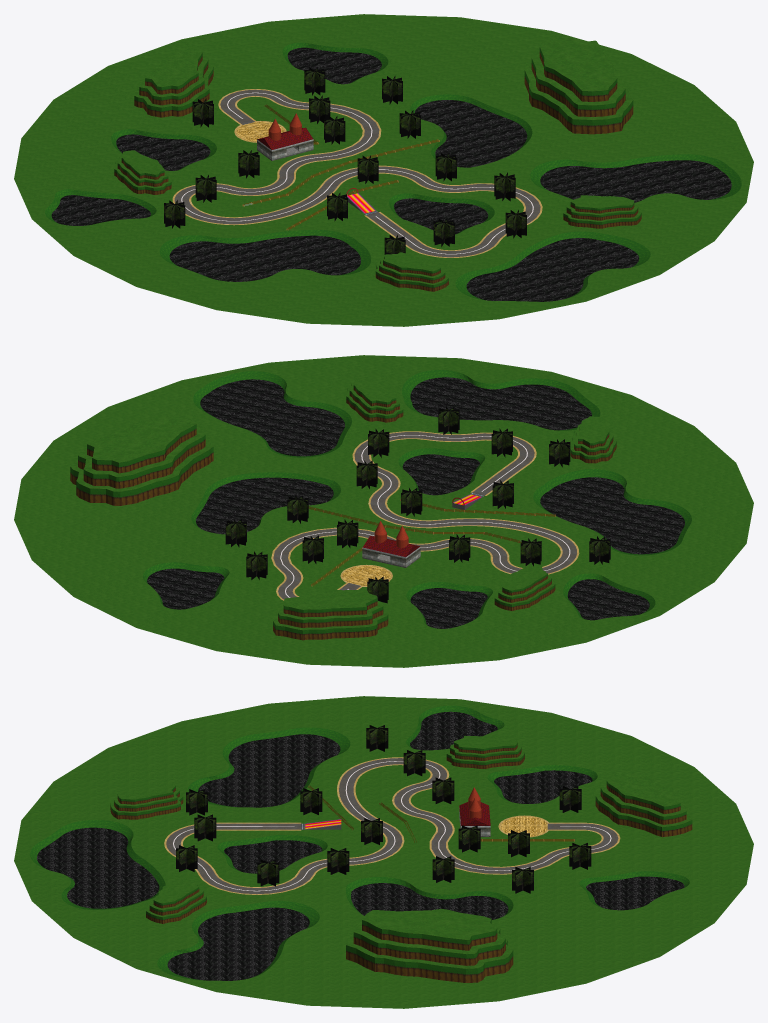
3 views of the same model, one above another, from view 1: azimuth 30°, elevation 25°; view 2: azimuth 150°, elevation 25°; view 3: azimuth 270°, elevation 25° (orthographic).
Visible parts, largest first — view 1: Rapid_Speedway_SKP__t_waki_da110, Rapid_Speedway_SKP__mv_water, Rapid_Speedway_SKP__grass, Rapid_Speedway_SKP__t_kabe_sita_051b, Rapid_Speedway_SKP__Live_Oak_1, Rapid_Speedway_SKP__Material1, Rapid_Speedway_SKP__sand, Rapid_Speedway_SKP__Concrete_Block_Layers1, Rapid_Speedway_SKP__yf_wood, Rapid_Speedway_SKP__Mtw_concre1, Rapid_Speedway_SKP__Roofing_Shingles_GAF_Estates, Rapid_Speedway_SKP__Material2; view 2: Rapid_Speedway_SKP__t_waki_da110, Rapid_Speedway_SKP__mv_water, Rapid_Speedway_SKP__t_kabe_sita_051b, Rapid_Speedway_SKP__grass, Rapid_Speedway_SKP__Live_Oak_1, Rapid_Speedway_SKP__Material1, Rapid_Speedway_SKP__sand, Rapid_Speedway_SKP__yf_wood, Rapid_Speedway_SKP__Concrete_Block_Layers1, Rapid_Speedway_SKP__Material2, Rapid_Speedway_SKP__Mtw_concre1, Rapid_Speedway_SKP__Roofing_Shingles_GAF_Estates; view 3: Rapid_Speedway_SKP__t_waki_da110, Rapid_Speedway_SKP__mv_water, Rapid_Speedway_SKP__t_kabe_sita_051b, Rapid_Speedway_SKP__grass, Rapid_Speedway_SKP__Live_Oak_1, Rapid_Speedway_SKP__Material1, Rapid_Speedway_SKP__sand, Rapid_Speedway_SKP__Concrete_Block_Layers1, Rapid_Speedway_SKP__Material2, Rapid_Speedway_SKP__Roofing_Shingles_GAF_Estates.
Part boxes in pixels (<box>): Rapid_Speedway_SKP__t_waki_da110: <box>14,14,753,326</box>; Rapid_Speedway_SKP__mv_water: <box>51,47,731,301</box>; Rapid_Speedway_SKP__grass: <box>45,42,741,300</box>; Rapid_Speedway_SKP__t_kabe_sita_051b: <box>114,47,641,291</box>; Rapid_Speedway_SKP__Live_Oak_1: <box>164,67,526,254</box>; Rapid_Speedway_SKP__Material1: <box>174,89,540,257</box>; Rapid_Speedway_SKP__sand: <box>172,89,542,257</box>; Rapid_Speedway_SKP__Concrete_Block_Layers1: <box>181,92,533,254</box>; Rapid_Speedway_SKP__yf_wood: <box>243,105,438,229</box>; Rapid_Speedway_SKP__Mtw_concre1: <box>257,139,313,160</box>; Rapid_Speedway_SKP__Roofing_Shingles_GAF_Estates: <box>257,127,313,149</box>; Rapid_Speedway_SKP__Material2: <box>236,121,284,141</box>; Rapid_Speedway_SKP__t_waki_da110: <box>14,355,753,667</box>; Rapid_Speedway_SKP__mv_water: <box>147,377,684,628</box>; Rapid_Speedway_SKP__t_kabe_sita_051b: <box>70,384,616,640</box>; Rapid_Speedway_SKP__grass: <box>143,370,691,624</box>; Rapid_Speedway_SKP__Live_Oak_1: <box>225,406,610,603</box>; Rapid_Speedway_SKP__Material1: <box>273,432,576,599</box>; Rapid_Speedway_SKP__sand: <box>271,431,579,600</box>; Rapid_Speedway_SKP__yf_wood: <box>308,503,554,585</box>; Rapid_Speedway_SKP__Concrete_Block_Layers1: <box>280,435,570,597</box>; Rapid_Speedway_SKP__Material2: <box>342,565,390,586</box>; Rapid_Speedway_SKP__Mtw_concre1: <box>362,547,420,567</box>; Rapid_Speedway_SKP__Roofing_Shingles_GAF_Estates: <box>362,536,420,556</box>; Rapid_Speedway_SKP__t_waki_da110: <box>14,696,753,1008</box>; Rapid_Speedway_SKP__mv_water: <box>37,711,684,980</box>; Rapid_Speedway_SKP__t_kabe_sita_051b: <box>110,742,692,982</box>; Rapid_Speedway_SKP__grass: <box>30,705,689,980</box>; Rapid_Speedway_SKP__Live_Oak_1: <box>176,725,591,893</box>; Rapid_Speedway_SKP__Material1: <box>166,758,618,894</box>; Rapid_Speedway_SKP__sand: <box>164,757,620,894</box>; Rapid_Speedway_SKP__Concrete_Block_Layers1: <box>173,761,611,891</box>; Rapid_Speedway_SKP__Material2: <box>500,816,547,836</box>; Rapid_Speedway_SKP__Roofing_Shingles_GAF_Estates: <box>459,802,490,825</box>.
Size of the model in its own units: 133207 by 7949 by 133207.
Materials: 19 (18 with a texture image).
